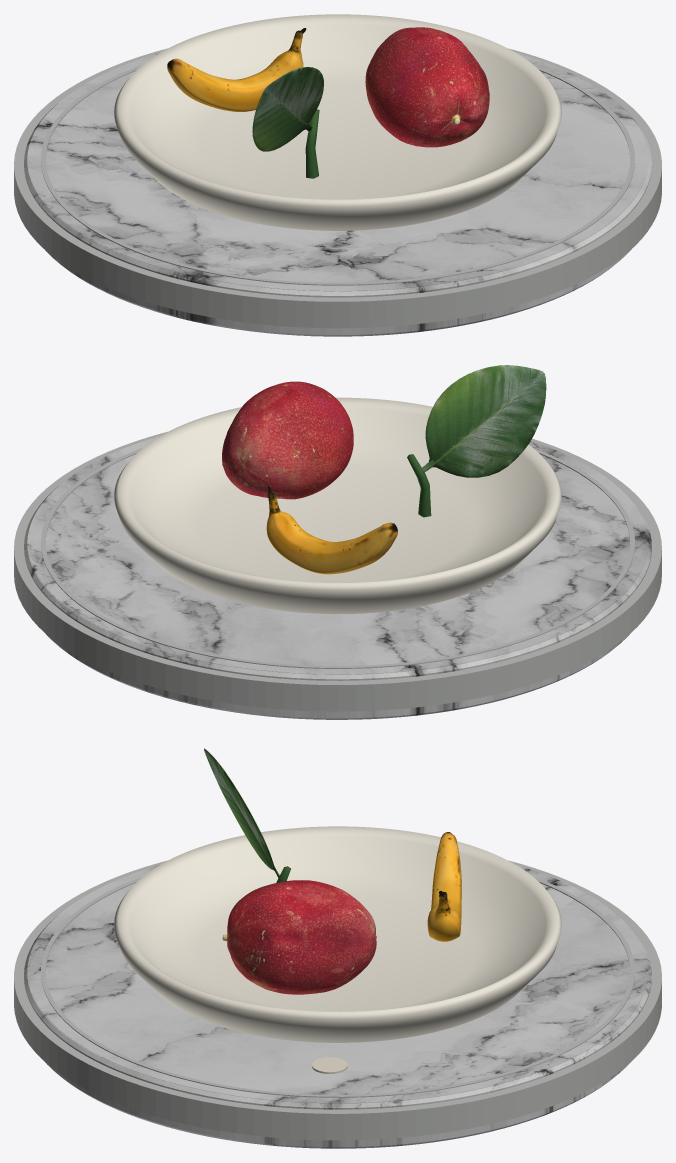
File: adjust_lazy_susan_9425fb56.glb
The picture shows the model from 3 angles, top to bottom: view 1: azimuth 30°, elevation 25°; view 2: azimuth 150°, elevation 25°; view 3: azimuth 270°, elevation 25°; orthographic projection.
Visible parts, largest first — view 1: Lazy Susan fruit plate, Lazy Susan / top_veneer, Lazy Susan / edge_band, Island fruit 2, Lazy Susan / platter_core, Island fruit 1, Lazy Susan / top_inlay_ring, Island fruit 0; view 2: Lazy Susan fruit plate, Lazy Susan / top_veneer, Lazy Susan / edge_band, Island fruit 2, Island fruit 1, Lazy Susan / platter_core, Island fruit 0, Lazy Susan / top_inlay_ring; view 3: Lazy Susan fruit plate, Lazy Susan / top_veneer, Lazy Susan / edge_band, Island fruit 2, Lazy Susan / platter_core, Lazy Susan / top_inlay_ring, Island fruit 0, Island fruit 1.
Part boxes in pixels (x1=…): Lazy Susan fruit plate: x1=114, y1=14, x2=561, y2=230; Lazy Susan / top_veneer: x1=28, y1=53, x2=647, y2=291; Lazy Susan / edge_band: x1=14, y1=48, x2=661, y2=328; Island fruit 2: x1=365, y1=27, x2=489, y2=147; Lazy Susan / platter_core: x1=24, y1=53, x2=651, y2=336; Island fruit 1: x1=252, y1=67, x2=323, y2=178; Lazy Susan / top_inlay_ring: x1=41, y1=64, x2=634, y2=285; Island fruit 0: x1=167, y1=28, x2=306, y2=111; Lazy Susan fruit plate: x1=114, y1=397, x2=561, y2=614; Lazy Susan / top_veneer: x1=28, y1=436, x2=647, y2=674; Lazy Susan / edge_band: x1=14, y1=431, x2=661, y2=711; Island fruit 2: x1=222, y1=381, x2=353, y2=499; Island fruit 1: x1=407, y1=365, x2=546, y2=517; Lazy Susan / platter_core: x1=24, y1=438, x2=651, y2=719; Island fruit 0: x1=266, y1=486, x2=397, y2=574; Lazy Susan / top_inlay_ring: x1=41, y1=448, x2=634, y2=668; Lazy Susan fruit plate: x1=114, y1=826, x2=561, y2=1042; Lazy Susan / top_veneer: x1=28, y1=865, x2=647, y2=1103; Lazy Susan / edge_band: x1=14, y1=860, x2=661, y2=1140; Island fruit 2: x1=222, y1=880, x2=376, y2=994; Lazy Susan / platter_core: x1=24, y1=865, x2=651, y2=1148; Lazy Susan / top_inlay_ring: x1=41, y1=877, x2=634, y2=1097; Island fruit 0: x1=427, y1=832, x2=461, y2=941; Island fruit 1: x1=204, y1=748, x2=290, y2=882.
Size of the model in its own units: 0.5499 by 0.2172 by 0.5499.
Materials: 12 (5 with a texture image).
